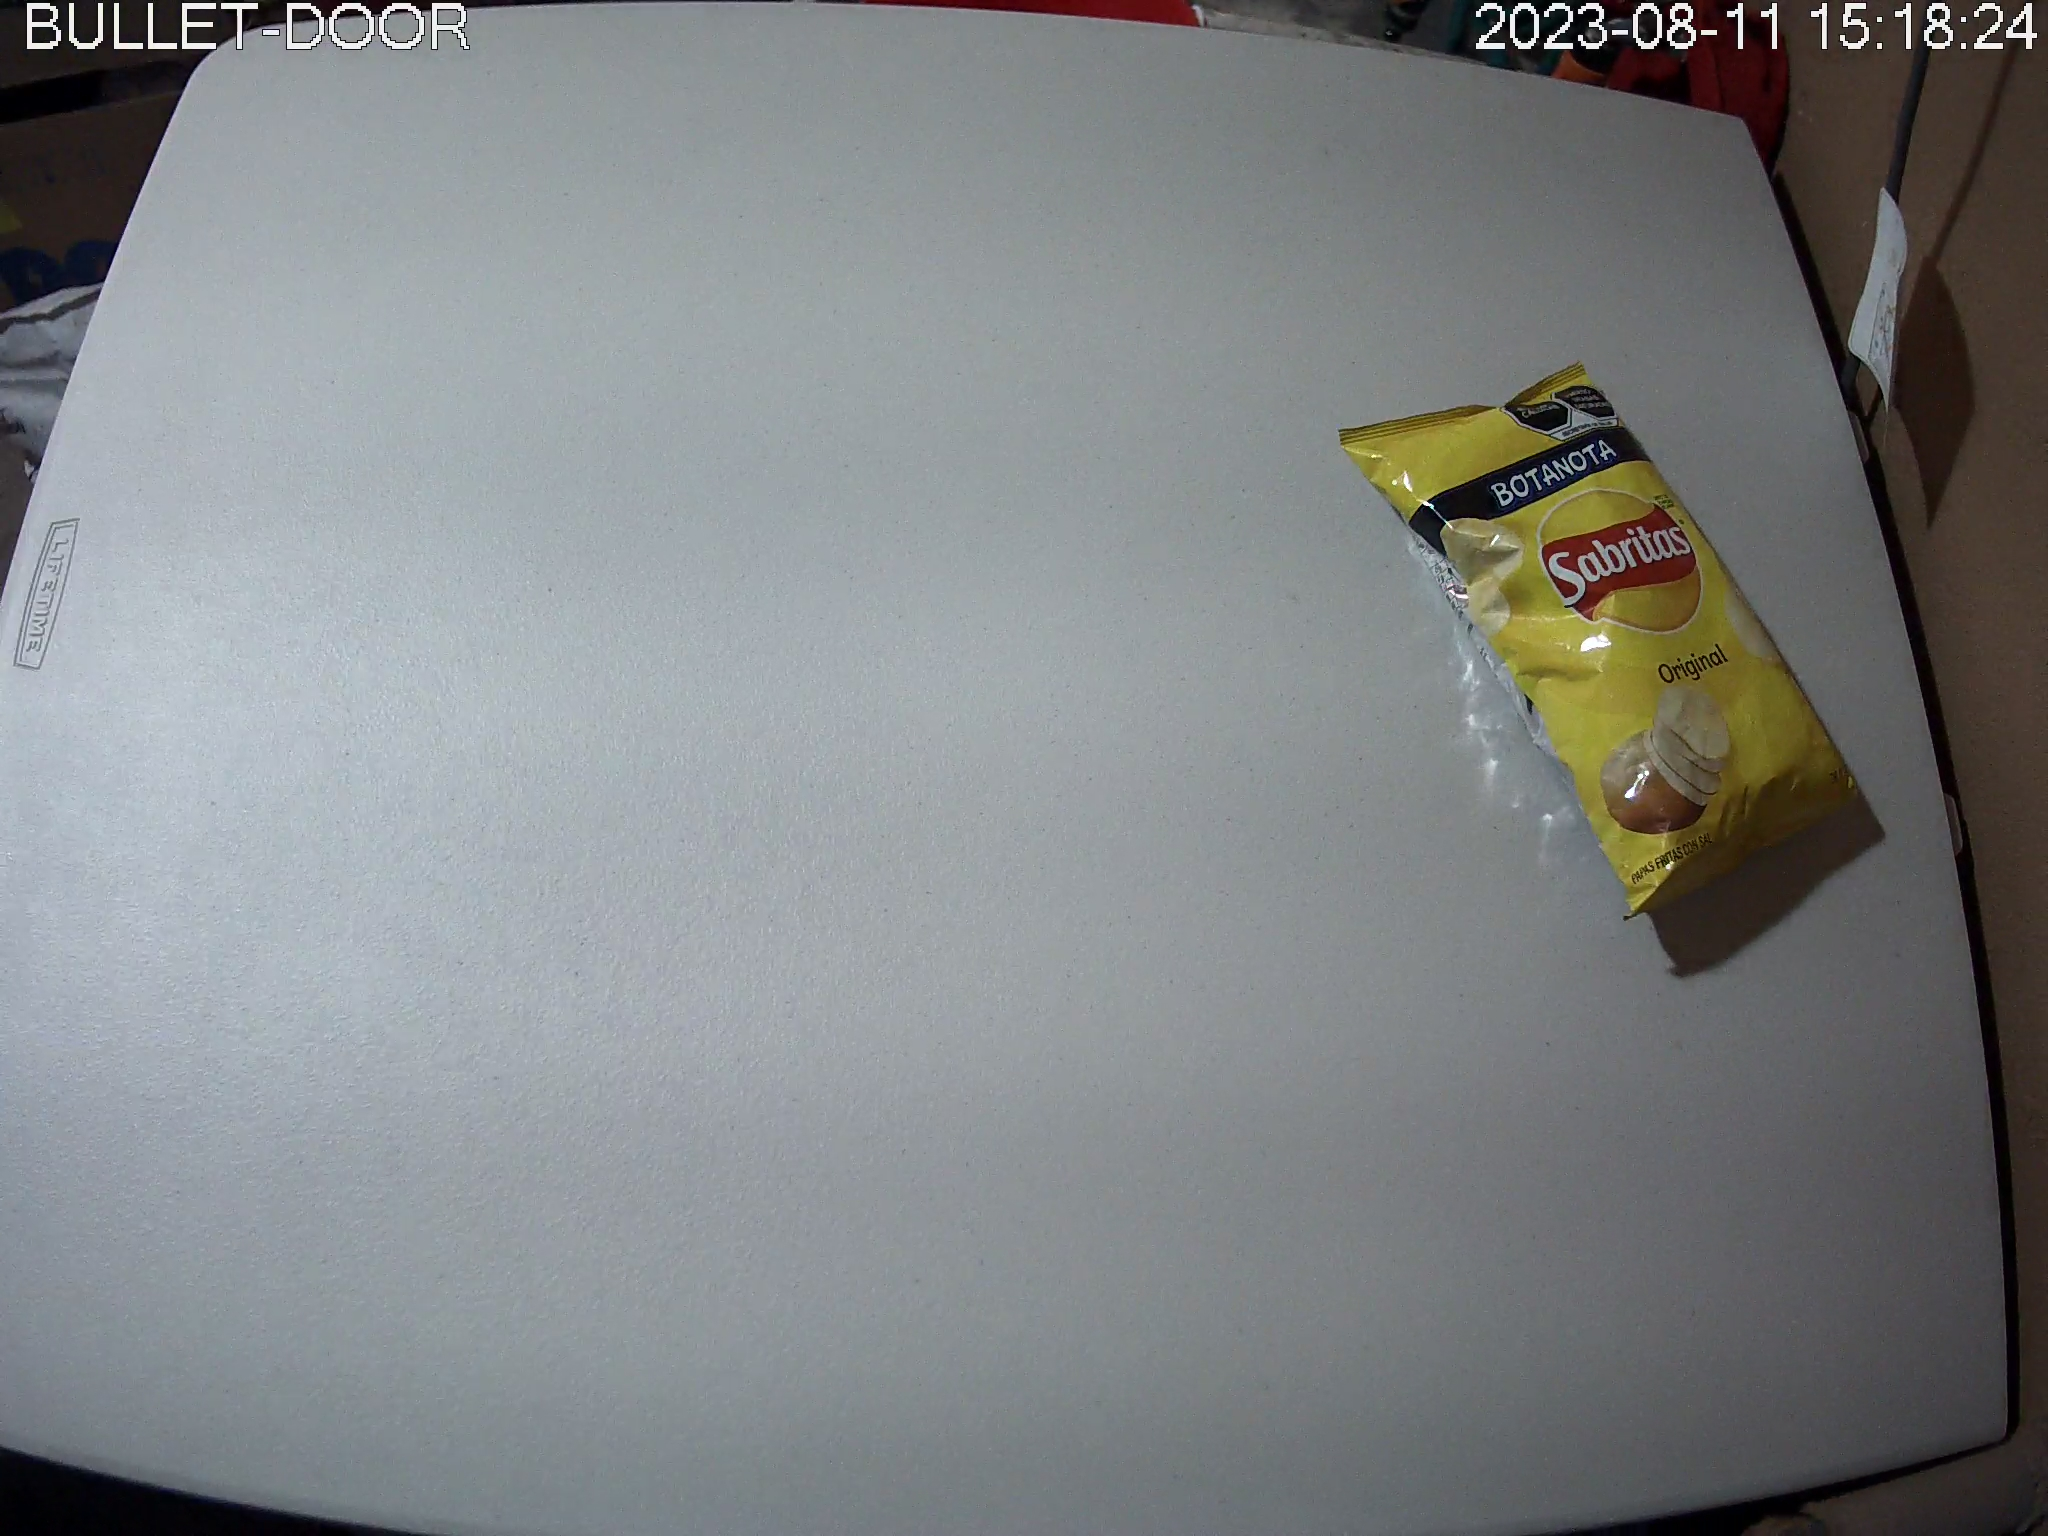Sabritas_64_F: (1335, 360, 1869, 921)
